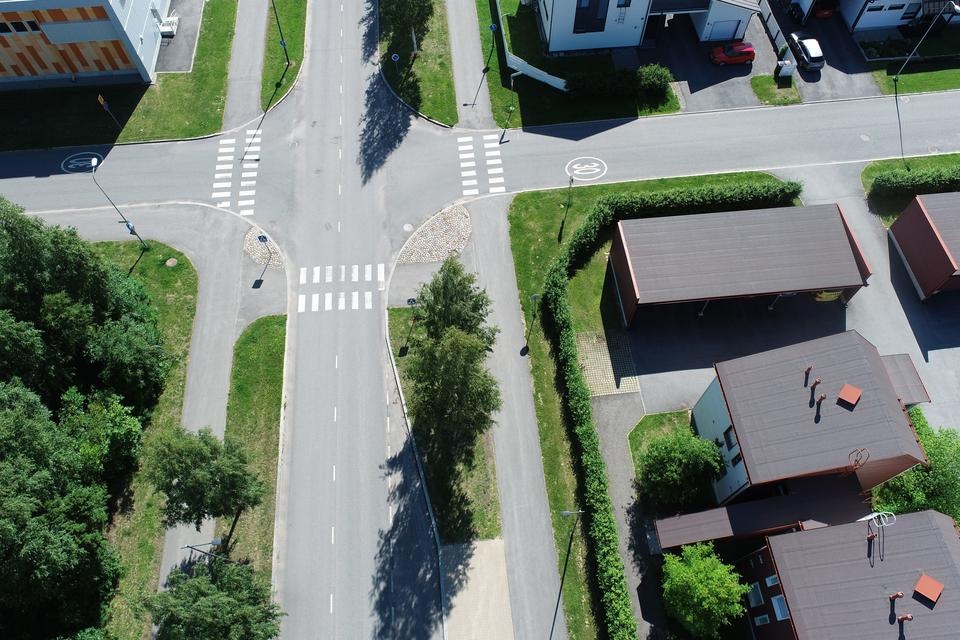intersection: (156, 83, 533, 358)
